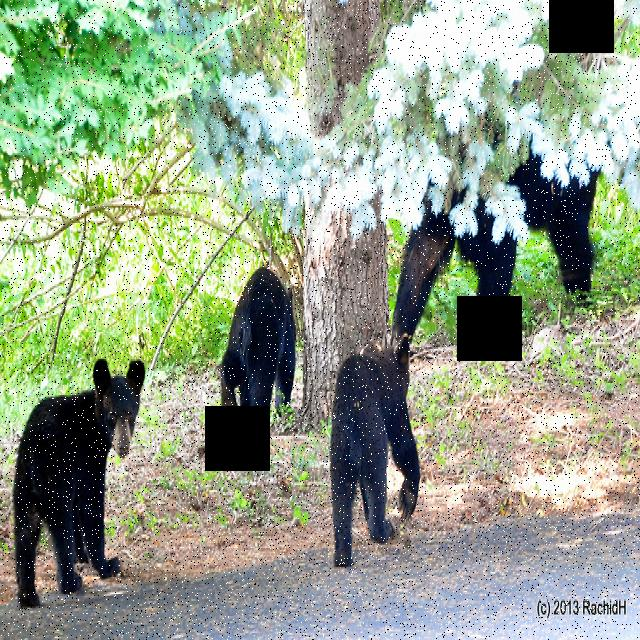Bear: (16, 346, 149, 616), (327, 342, 429, 564), (222, 261, 296, 433)
